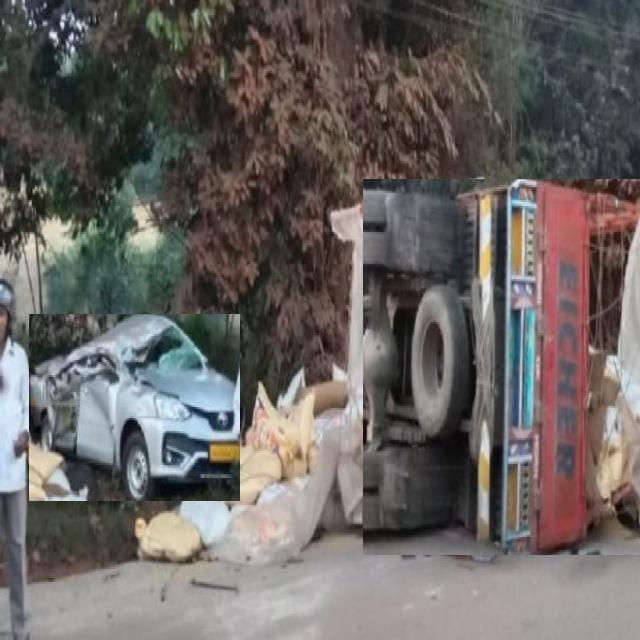accident: (363, 179, 640, 555), (29, 315, 240, 501)
